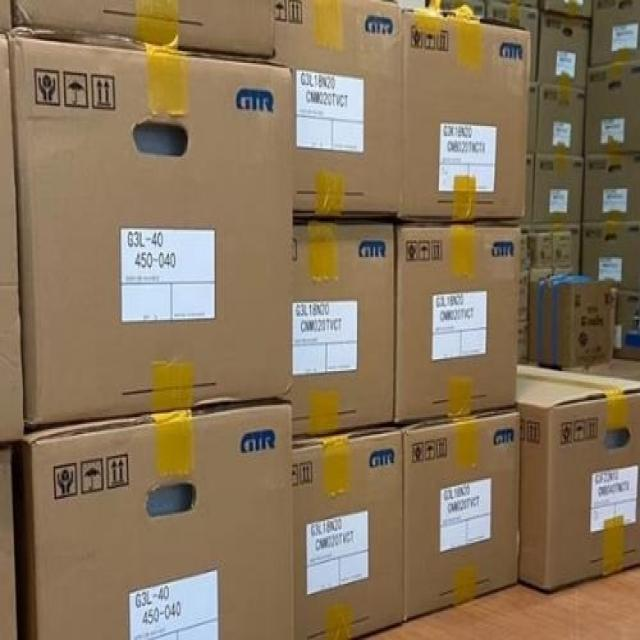box: (8, 26, 293, 432), (9, 398, 294, 640), (397, 7, 531, 220), (273, 0, 402, 218), (518, 363, 640, 591), (394, 225, 521, 424), (403, 407, 520, 621), (287, 221, 396, 439), (292, 427, 402, 640), (10, 0, 273, 61), (527, 272, 614, 368), (584, 60, 640, 155), (485, 0, 539, 82), (536, 12, 591, 89), (582, 221, 640, 293), (584, 155, 640, 223), (535, 83, 586, 157), (531, 155, 584, 223), (589, 0, 639, 65), (541, 0, 593, 19), (527, 82, 540, 153), (529, 233, 552, 269), (552, 233, 573, 267), (526, 155, 535, 221)
